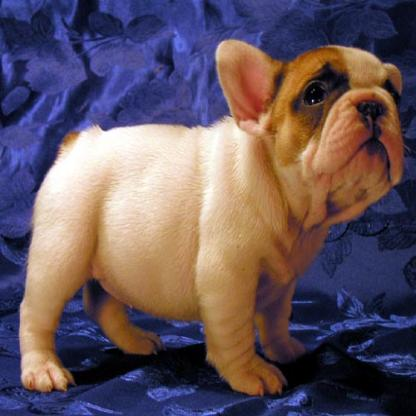French_bulldog: (16, 36, 411, 396)
